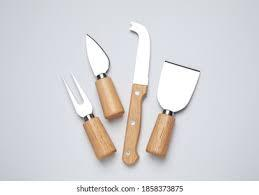Knife: (145, 59, 200, 156), (62, 72, 116, 160), (121, 20, 150, 165), (84, 33, 124, 119)
